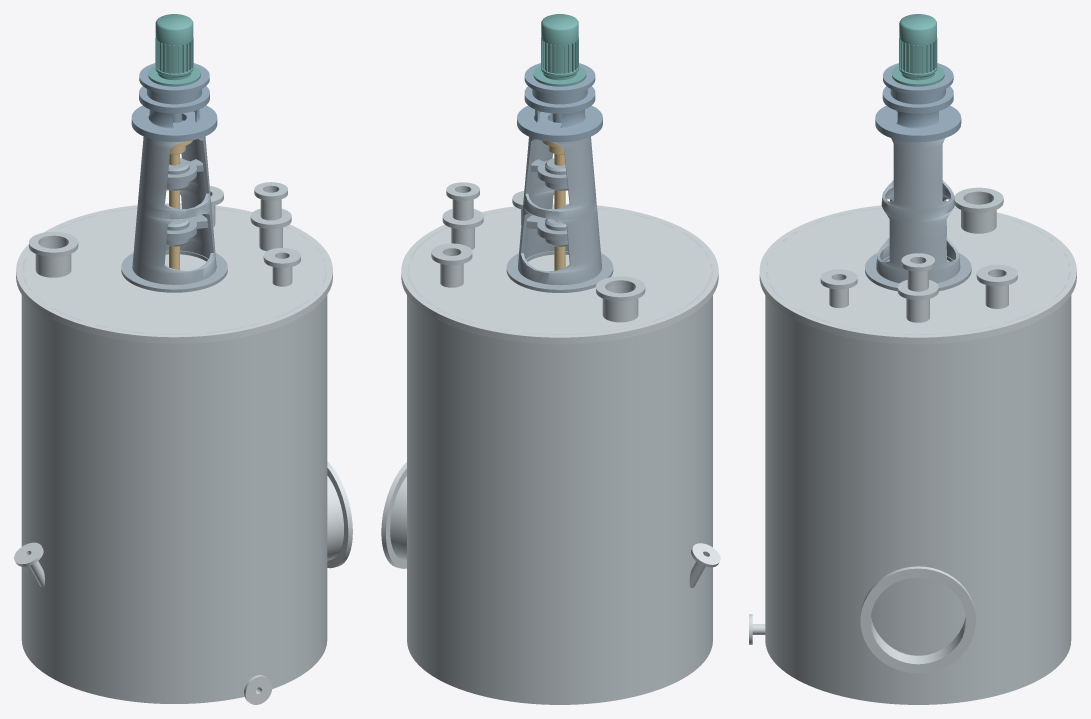
3 renders of one model, left to right at view 1: azimuth 30°, elevation 25°; view 2: azimuth 150°, elevation 25°; view 3: azimuth 270°, elevation 25°, orthographic.
Visible parts, largest first — view 1: 本体_筒壳, 槽盖_盖板, 支架_06_Tapered_window_frame_with_bored_seats, 驱动_01_Motor, 驱动_02_Base_flange_top, 支架_06_Frame_foot, 接口_东侧大口接管, 接口_东侧大口法兰, 接口_顶盖接管01, 接口_顶盖法兰01, 驱动_02_Upper_mount_flange, 双端对称中间轴_03_Intermediate_shaft (+7 smaller); view 2: 本体_筒壳, 槽盖_盖板, 支架_06_Tapered_window_frame_with_bored_seats, 驱动_01_Motor, 驱动_02_Base_flange_top, 支架_06_Frame_foot, 接口_东侧大口接管, 接口_东侧大口法兰, 接口_顶盖接管01, 驱动_02_Upper_mount_flange, 接口_顶盖法兰01, 双端对称中间轴_03_Intermediate_shaft (+7 smaller); view 3: 本体_筒壳, 槽盖_盖板, 支架_06_Tapered_window_frame_with_bored_seats, 接口_东侧大口法兰, 驱动_01_Motor, 驱动_02_Base_flange_top, 支架_06_Frame_foot, 接口_顶盖接管01, 接口_顶盖法兰01, 驱动_02_Upper_mount_flange, 接口_东侧大口接管, 接口_顶盖法兰03 (+8 smaller).
Boxes of the visible parts, bbox=[...] form: 本体_筒壳: bbox=[21, 207, 327, 703]; 槽盖_盖板: bbox=[16, 203, 332, 343]; 支架_06_Tapered_window_frame_with_bored_seats: bbox=[132, 120, 216, 284]; 驱动_01_Motor: bbox=[148, 14, 200, 86]; 驱动_02_Base_flange_top: bbox=[131, 105, 217, 138]; 支架_06_Frame_foot: bbox=[121, 250, 227, 292]; 接口_东侧大口接管: bbox=[327, 476, 343, 560]; 接口_东侧大口法兰: bbox=[327, 461, 352, 568]; 接口_顶盖接管01: bbox=[35, 240, 71, 277]; 接口_顶盖法兰01: bbox=[29, 231, 78, 256]; 驱动_02_Upper_mount_flange: bbox=[139, 63, 209, 94]; 双端对称中间轴_03_Intermediate_shaft: bbox=[169, 140, 192, 270]; 本体_筒壳: bbox=[407, 206, 712, 704]; 槽盖_盖板: bbox=[401, 203, 718, 344]; 支架_06_Tapered_window_frame_with_bored_seats: bbox=[518, 120, 601, 285]; 驱动_01_Motor: bbox=[533, 14, 586, 86]; 驱动_02_Base_flange_top: bbox=[517, 105, 602, 138]; 支架_06_Frame_foot: bbox=[506, 251, 613, 292]; 接口_东侧大口接管: bbox=[390, 476, 406, 561]; 接口_东侧大口法兰: bbox=[381, 462, 406, 568]; 接口_顶盖接管01: bbox=[602, 284, 638, 322]; 驱动_02_Upper_mount_flange: bbox=[524, 63, 595, 94]; 接口_顶盖法兰01: bbox=[596, 276, 645, 301]; 双端对称中间轴_03_Intermediate_shaft: bbox=[541, 140, 565, 270]; 本体_筒壳: bbox=[765, 207, 1071, 704]; 槽盖_盖板: bbox=[759, 205, 1076, 344]; 支架_06_Tapered_window_frame_with_bored_seats: bbox=[876, 138, 960, 283]; 接口_东侧大口法兰: bbox=[860, 566, 975, 673]; 驱动_01_Motor: bbox=[892, 14, 944, 86]; 驱动_02_Base_flange_top: bbox=[875, 105, 961, 138]; 支架_06_Frame_foot: bbox=[865, 253, 971, 291]; 接口_顶盖接管01: bbox=[961, 196, 996, 233]; 接口_顶盖法兰01: bbox=[954, 187, 1003, 212]; 驱动_02_Upper_mount_flange: bbox=[883, 63, 953, 94]; 接口_东侧大口接管: bbox=[870, 616, 965, 661]; 接口_顶盖法兰03: bbox=[976, 264, 1017, 286].
Bounding box in the file's own units: 1.74 × 3.37 × 1.61.
